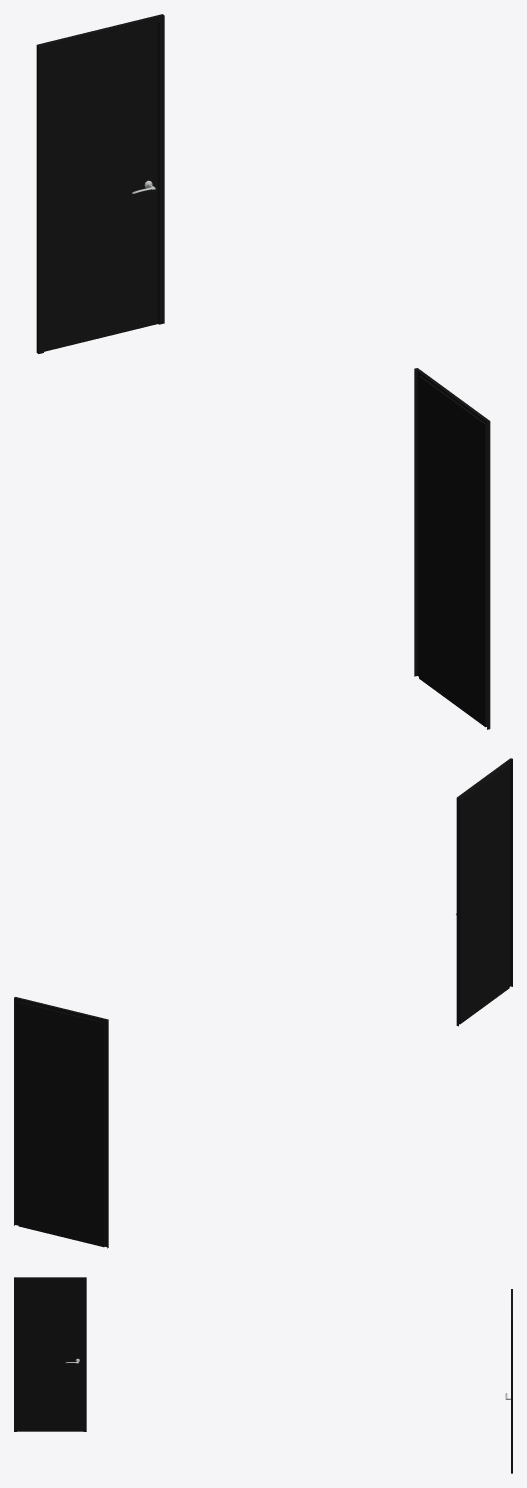
The model's file is Doors.fbx.
The picture shows the model from 3 angles, top to bottom: view 1: azimuth 30°, elevation 25°; view 2: azimuth 150°, elevation 25°; view 3: azimuth 270°, elevation 25°; orthographic projection. The views are drawn at different scales.
Parts seen in each view (by area): view 1: Door, Door.002; view 2: Door, Door.002; view 3: Door.002, Door.
Boxes of the visible parts, x1,y1,x2,y2 form: Door: [36, 14, 164, 353]; Door.002: [414, 368, 490, 729]; Door: [14, 997, 108, 1248]; Door.002: [456, 758, 512, 1026]; Door.002: [14, 1277, 86, 1431]; Door: [511, 1289, 512, 1473].
Bounding box in the file's own units: 121 × 205 × 601.
Materials: 1 (1 with a texture image).
